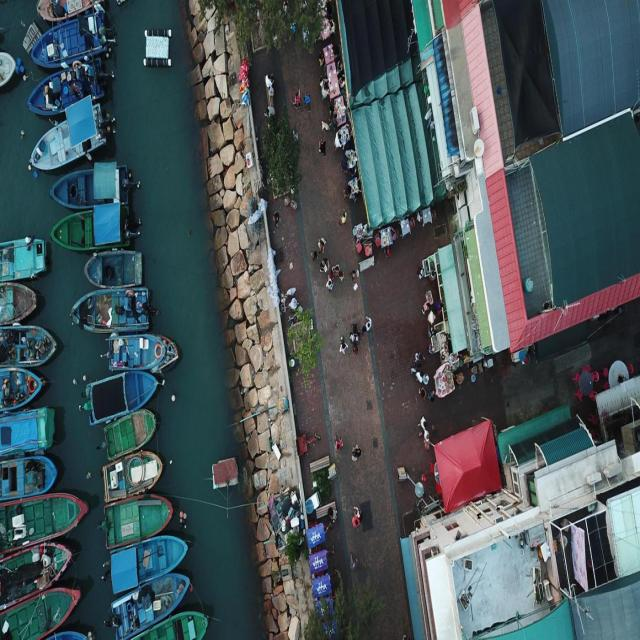tree: (197, 0, 329, 62), (259, 101, 302, 206), (286, 304, 323, 392)
